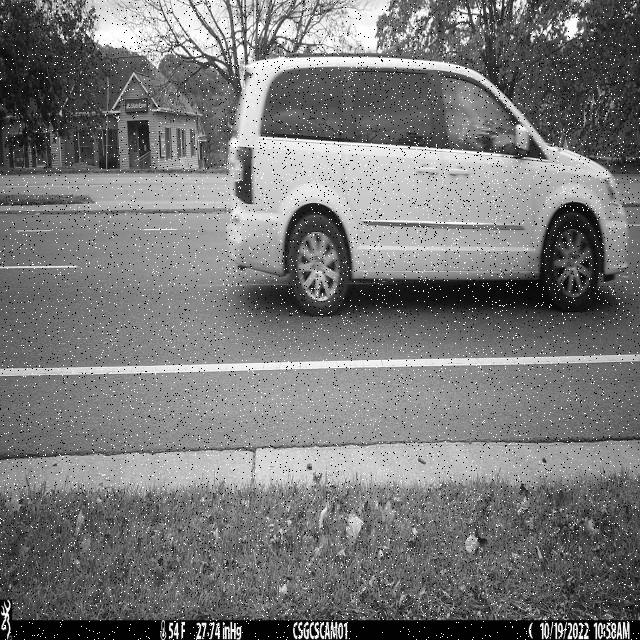Van: (225, 54, 628, 318)
